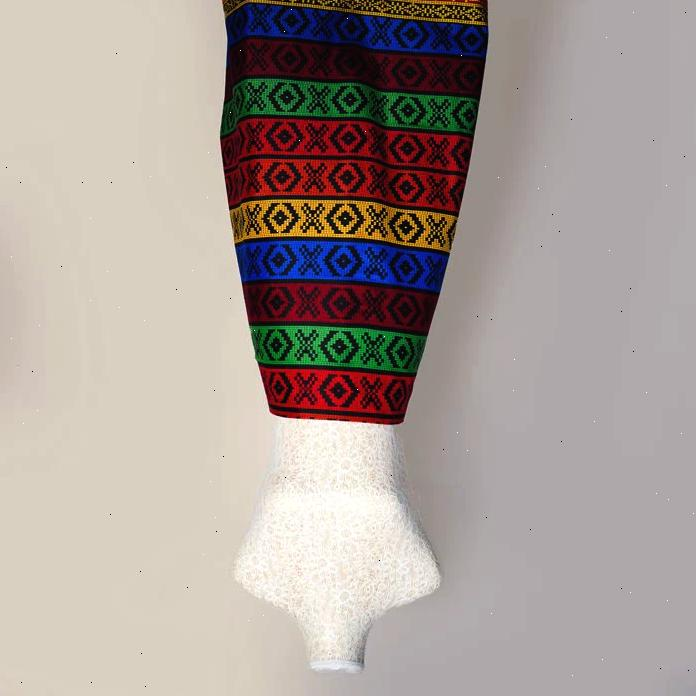malong: (213, 0, 495, 430)
